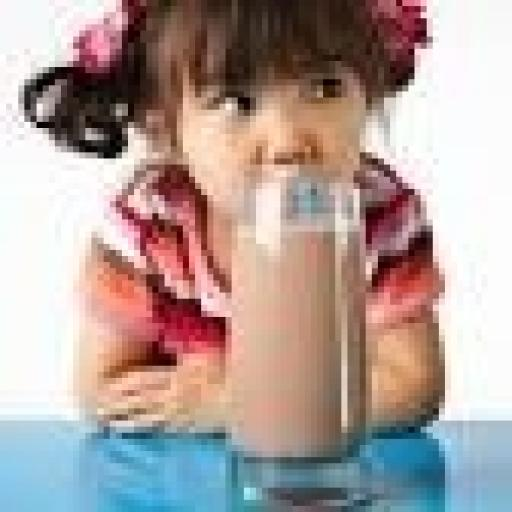drinking: (95, 58, 466, 480)
